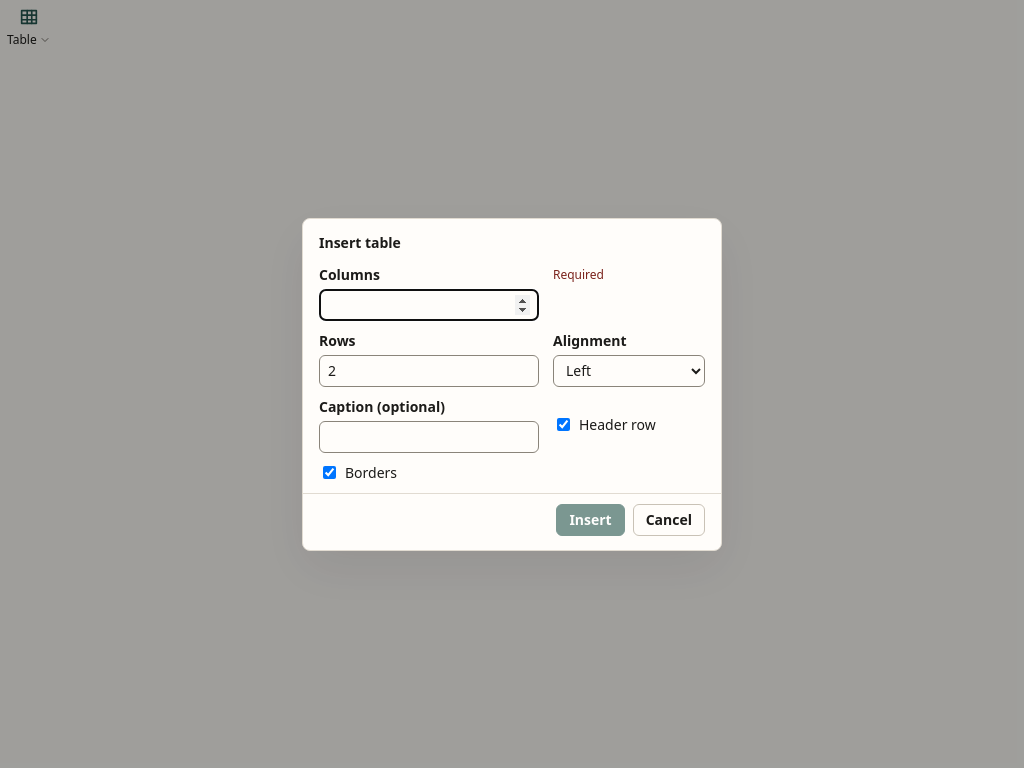
Test case: Insert table dialog › inserts the configured table
Earlier steps of the test are not shown.
Type "4" into the number field labelled "Columns" at (429, 304), box x1=319 y1=288 x2=539 y2=320
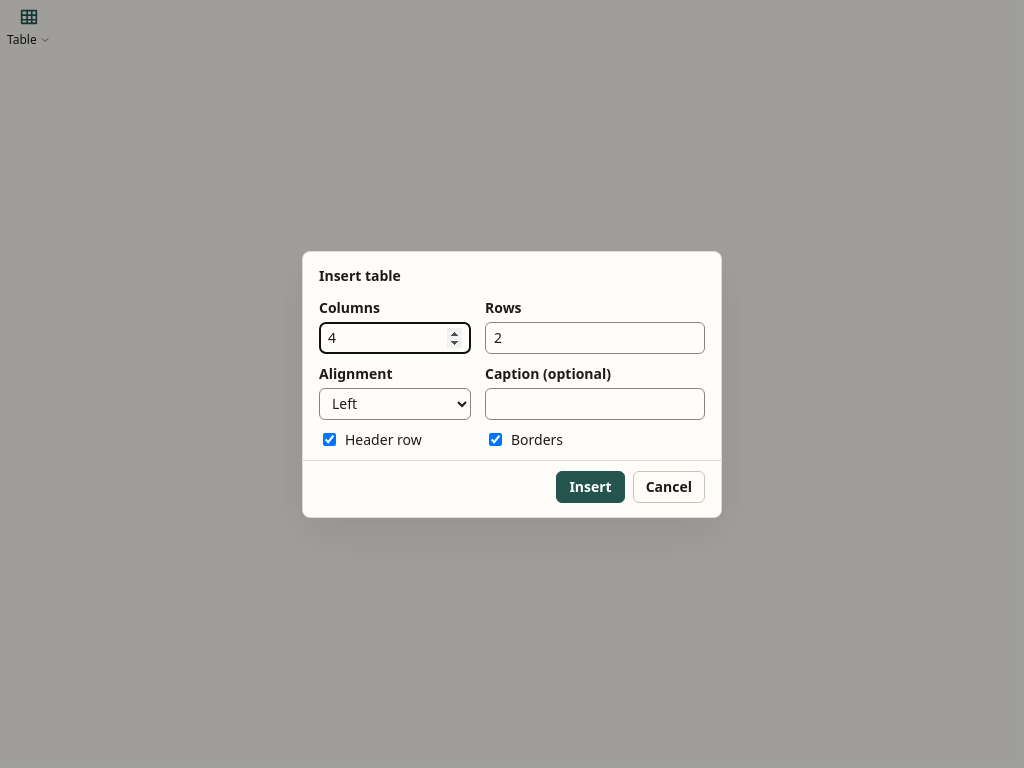
Clear the number field labelled "Rows" at (595, 338), box x1=485 y1=322 x2=705 y2=354
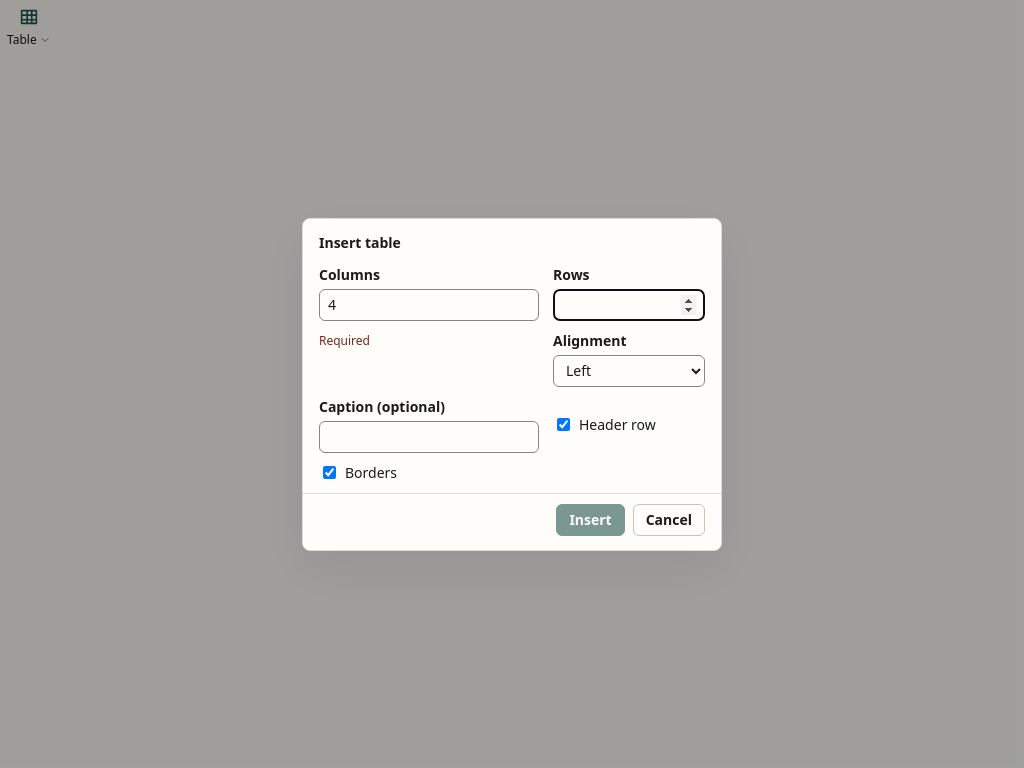
Type "5" into the number field labelled "Rows" at (629, 304), box x1=553 y1=288 x2=705 y2=320
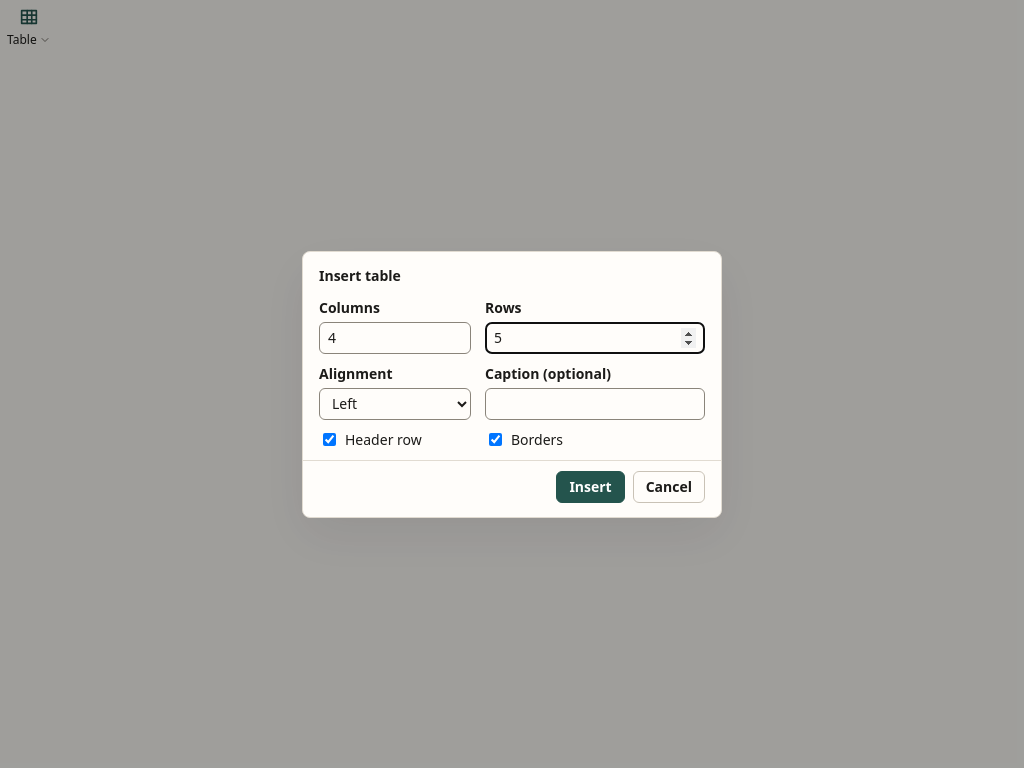
Click the checkbox labelled "Borders" at (496, 440), box x1=489 y1=433 x2=502 y2=446
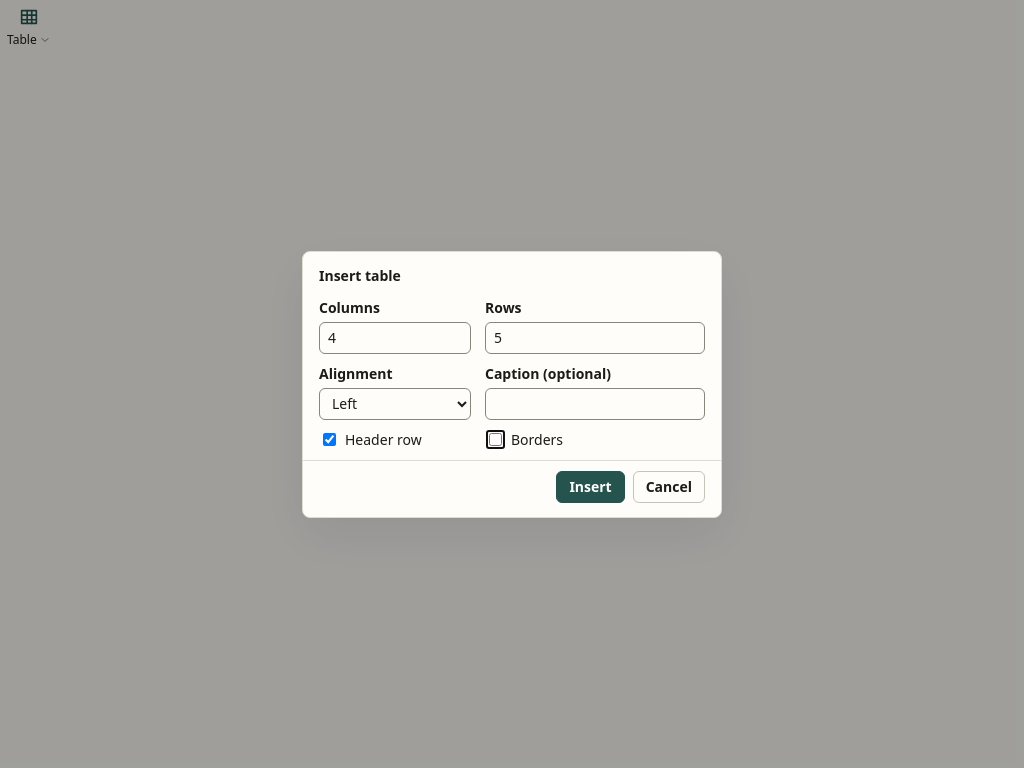
Select "Center" in the dropdown labelled "Alignment" at (395, 404), box x1=319 y1=388 x2=471 y2=420
Type " Results " into the field labelled "Caption (optional)" at (595, 404), box x1=485 y1=388 x2=705 y2=420
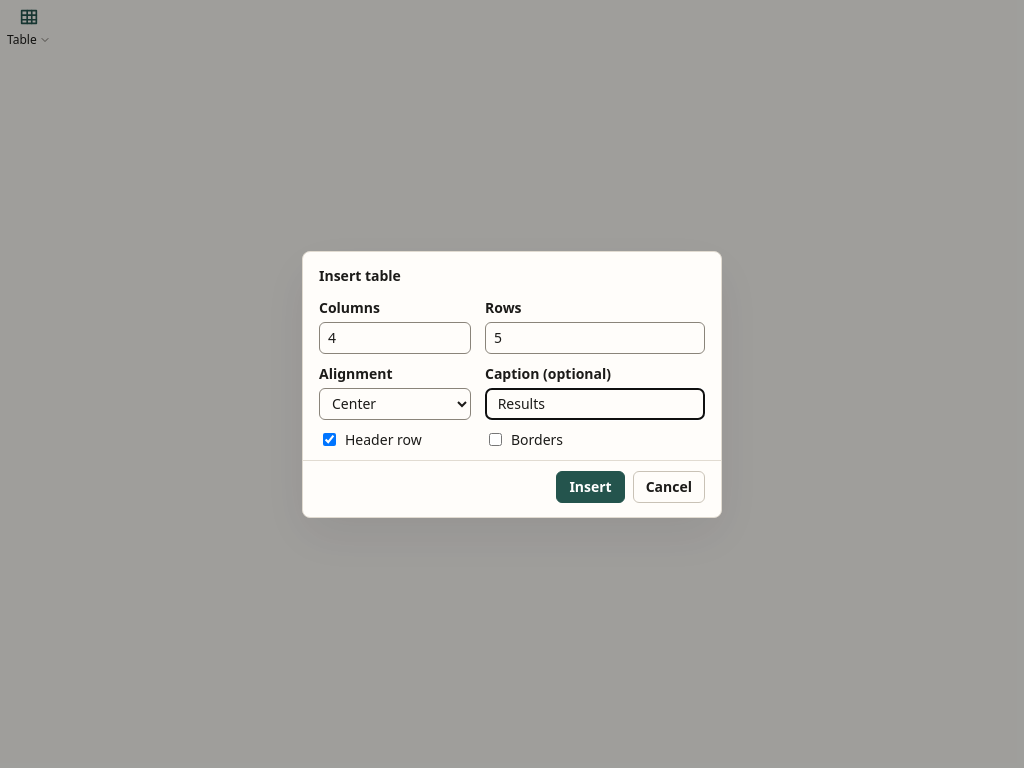
Click the button "Insert" at (591, 486), box x1=556 y1=470 x2=625 y2=502
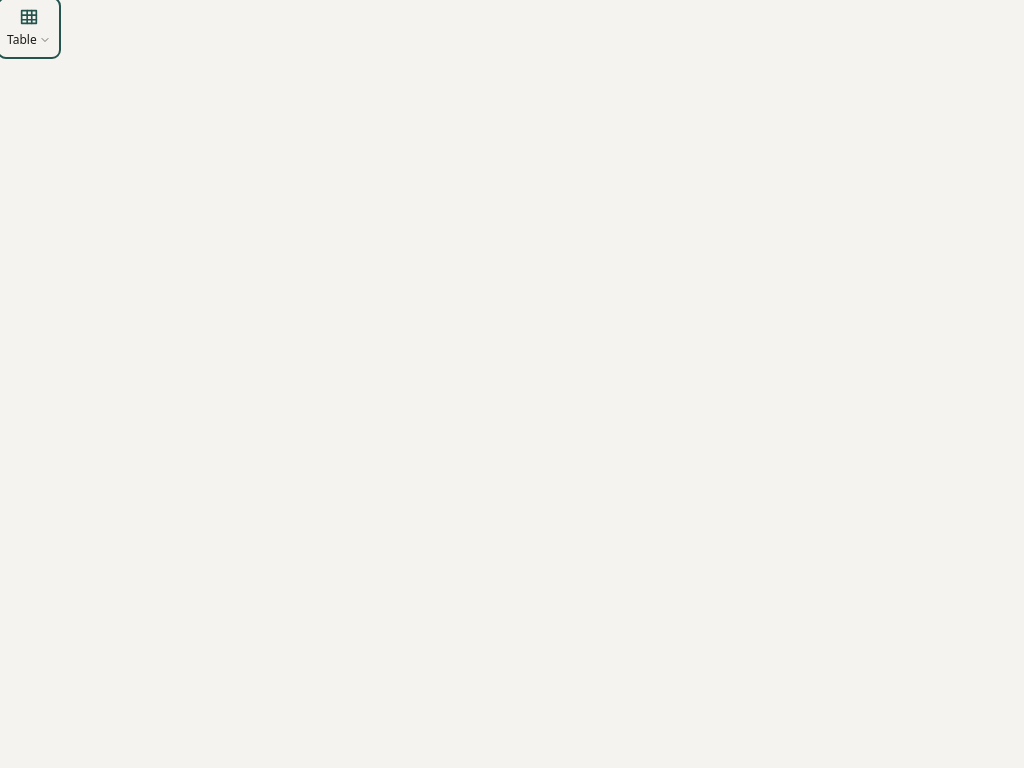
Expected: the dialog is gone
